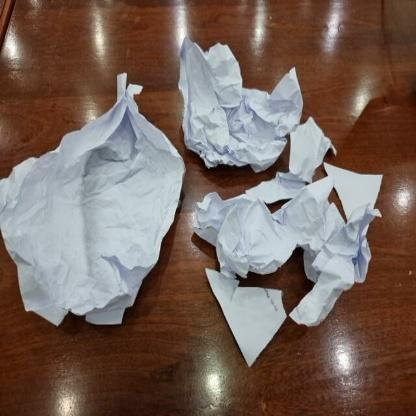trash: (0, 70, 185, 325), (200, 176, 379, 326), (180, 36, 299, 171), (236, 119, 335, 208), (207, 270, 286, 366), (325, 162, 384, 220)
